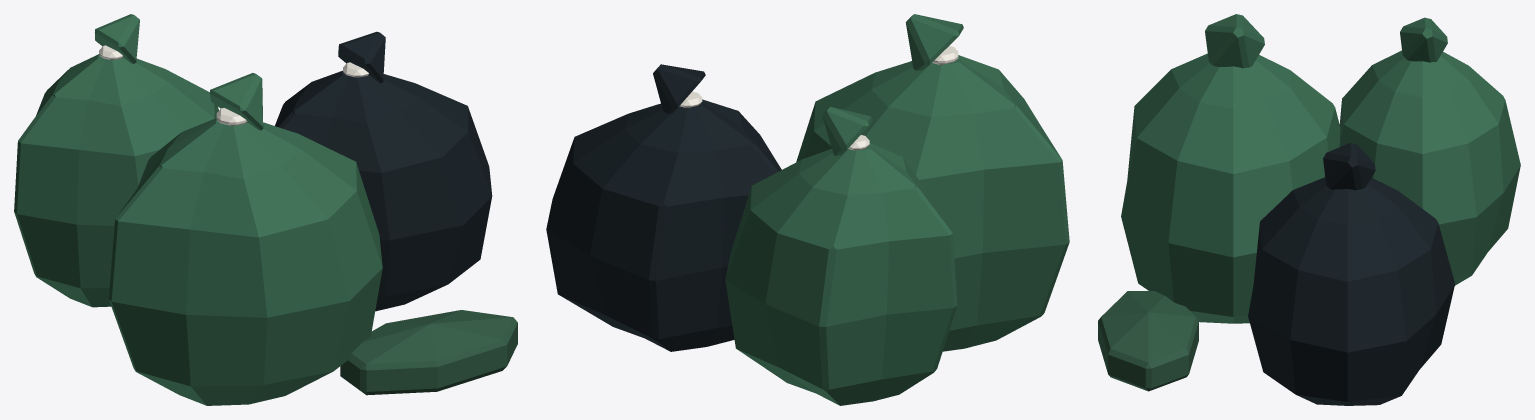
File: b04_three_bag_yard_clippings_pile.glb
3 renders of one model, left to right at view 1: azimuth 30°, elevation 25°; view 2: azimuth 150°, elevation 25°; view 3: azimuth 270°, elevation 25°, orthographic. The views are drawn at different scales.
Visible parts, largest first — view 1: b04_three_bag_yard_clippings_pile; view 2: b04_three_bag_yard_clippings_pile; view 3: b04_three_bag_yard_clippings_pile.
Part boxes in pixels (x1,y1,x2,y2): b04_three_bag_yard_clippings_pile: [14, 14, 517, 405]; b04_three_bag_yard_clippings_pile: [546, 14, 1069, 405]; b04_three_bag_yard_clippings_pile: [1098, 14, 1520, 405].
Size of the model in its own units: 0.9477 by 0.625 by 0.8487.
